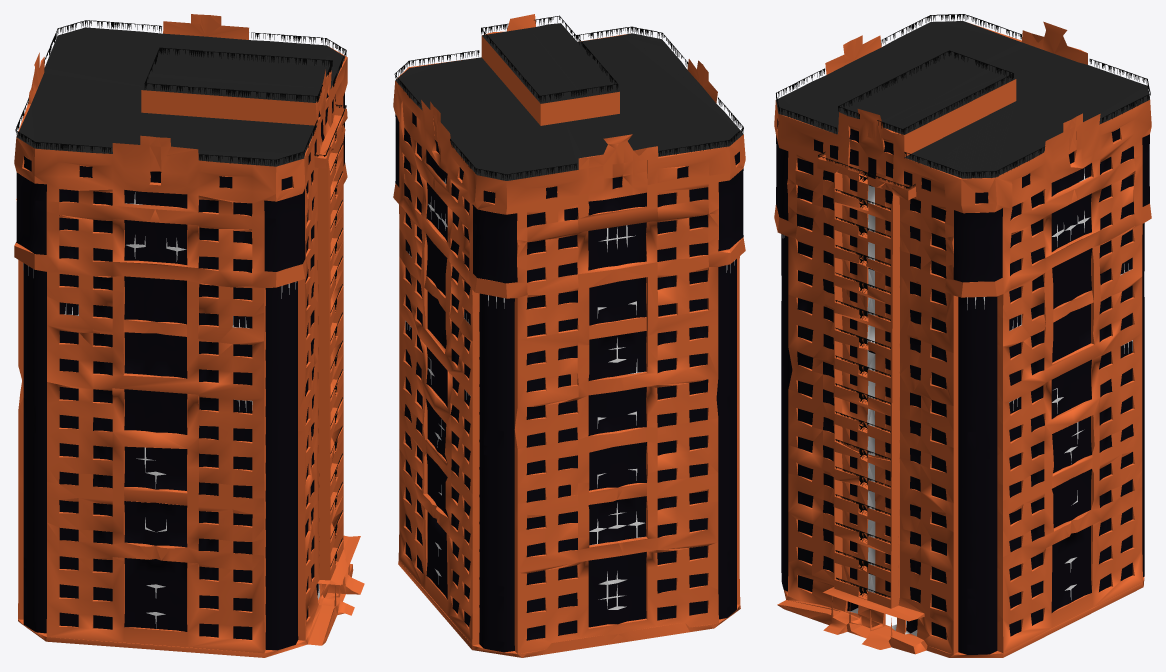
3 views of the same model, side by side, from view 1: azimuth 30°, elevation 25°; view 2: azimuth 150°, elevation 25°; view 3: azimuth 270°, elevation 25° (orthographic). The views are drawn at different scales.
Parts seen in each view (by area): view 1: Box023; view 2: Box023; view 3: Box023.
Boxes of the visible parts, <box> form: Box023: <box>14,14,364,657</box>; Box023: <box>393,14,745,657</box>; Box023: <box>774,14,1151,657</box>.
Bounding box in the file's own units: 35.29 × 53.49 × 35.37.
